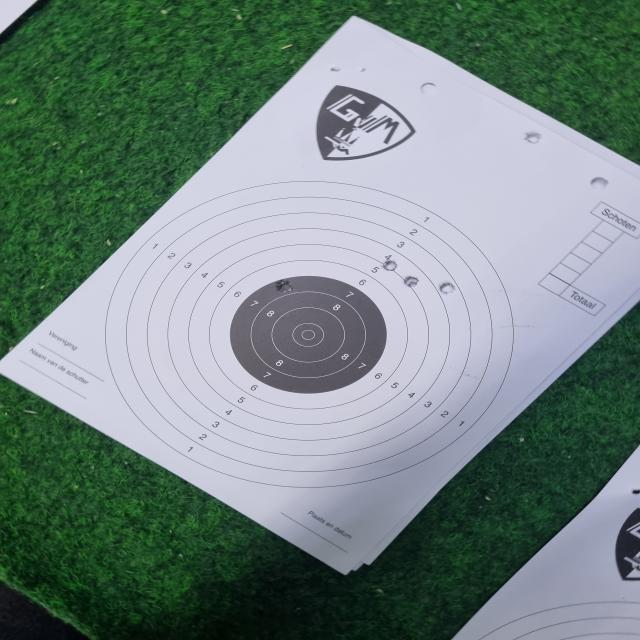4: (439, 282, 456, 294)
6: (382, 260, 398, 272), (404, 276, 419, 287)
8: (276, 280, 292, 293)
Black Contour: (231, 276, 387, 396)
Target: (103, 180, 516, 488), (480, 600, 640, 640)
hole: (524, 132, 541, 144)
